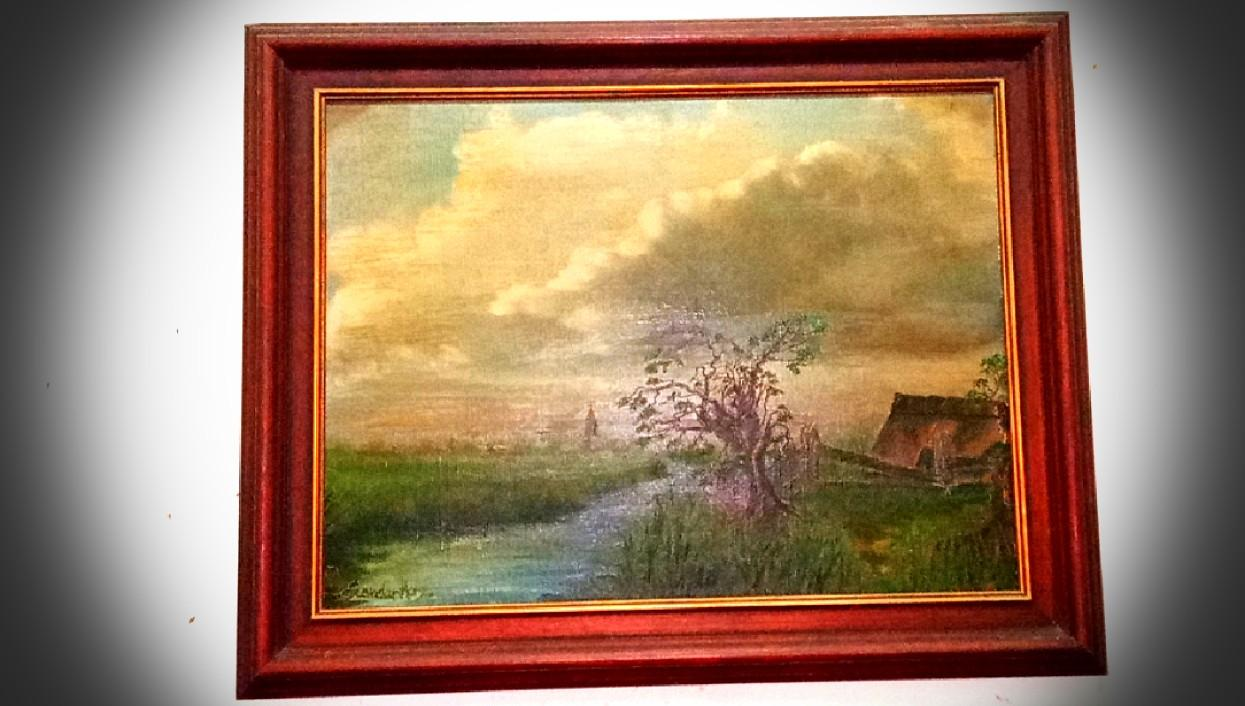lukisan: (197, 39, 1133, 678)
